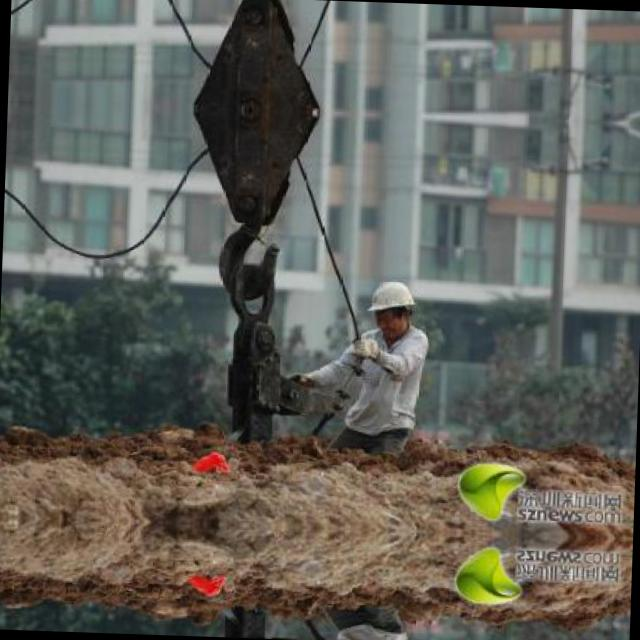helmet: (364, 276, 419, 338)
